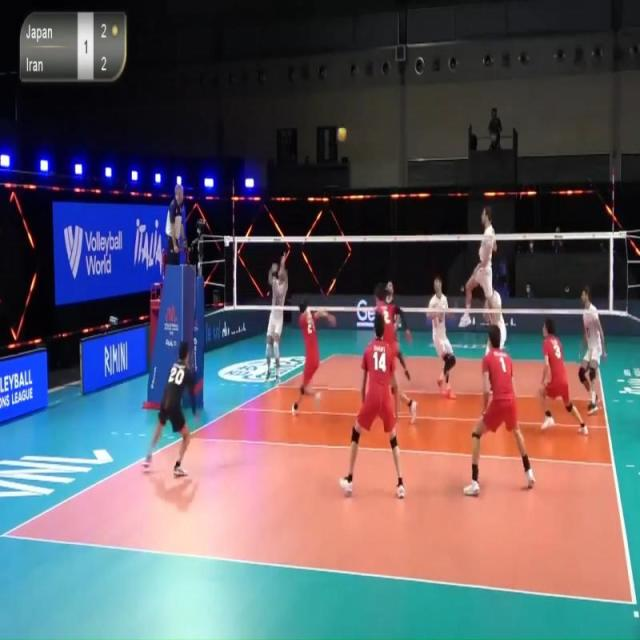volleyball: (336, 124, 348, 146)
